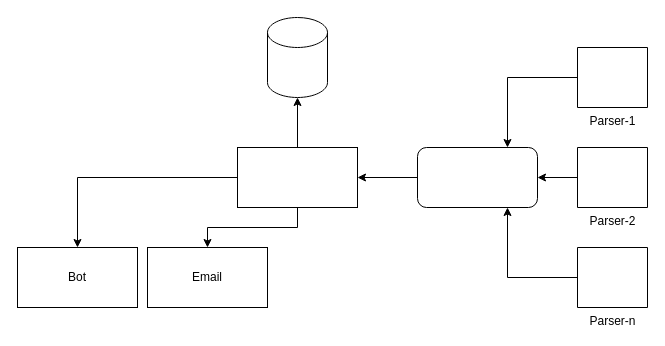
Image size: 665x346. Some labels were removed from this diagram. The shapes that lost their labels are listed below. From the top down, each one's centre as x and y in pixels, then its label:
At point 297,177: "NotifyManager".
At point 477,177: "Parsing-processor".
